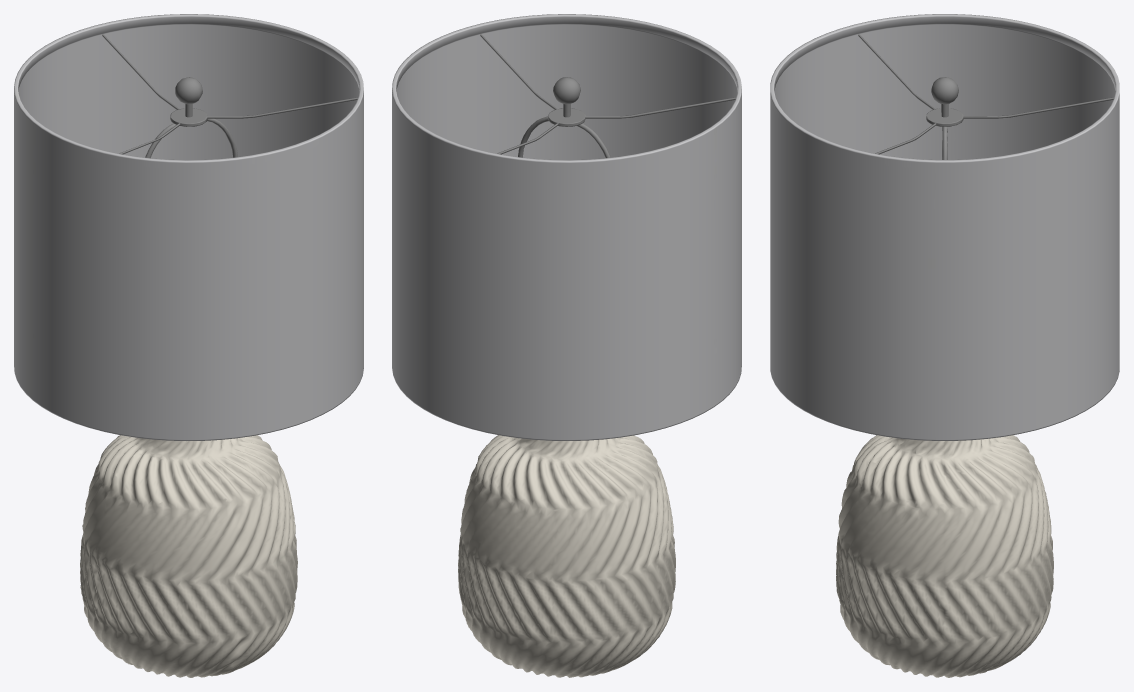
Rendered from abo-B07MF1SN4F.glb.
3 views of the same model, side by side, from view 1: azimuth 30°, elevation 25°; view 2: azimuth 150°, elevation 25°; view 3: azimuth 270°, elevation 25° (orthographic).
Size of the model in its own units: 0.203 by 0.368 by 0.203.
1 material, 1 textured.
